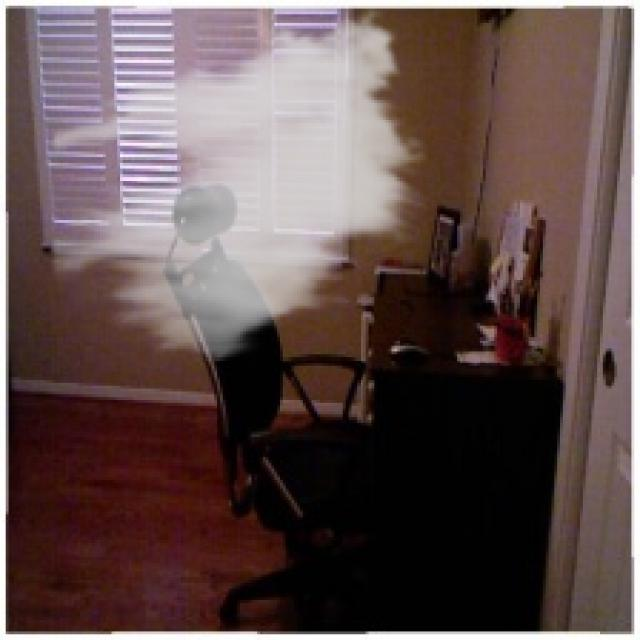smoke: (51, 0, 429, 372)
